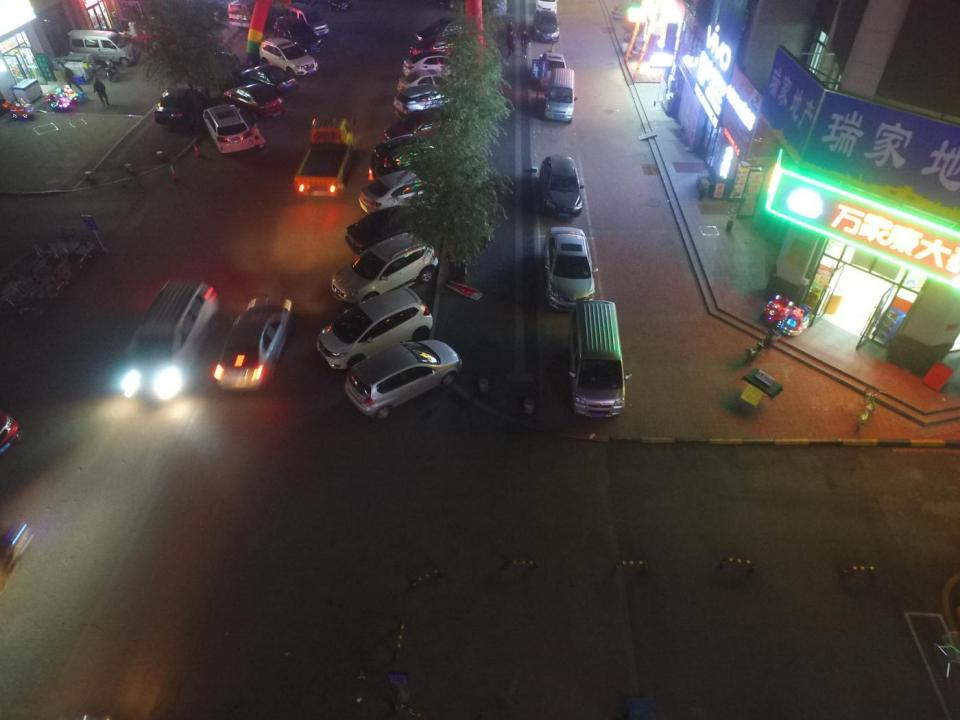car: (316, 286, 433, 369), (345, 340, 462, 420), (331, 233, 438, 305), (214, 298, 292, 390), (346, 205, 446, 256), (543, 227, 598, 311), (359, 170, 444, 215), (539, 156, 585, 219), (383, 108, 454, 144), (224, 84, 284, 121), (397, 69, 469, 96), (154, 87, 206, 124), (544, 68, 578, 124), (237, 63, 298, 94), (403, 51, 475, 77), (186, 51, 239, 85), (410, 36, 472, 63), (415, 18, 477, 42), (541, 53, 569, 89), (534, 9, 560, 42), (535, 0, 559, 14)
truck: (294, 118, 357, 195)
van: (122, 280, 220, 399), (567, 300, 632, 417), (372, 134, 456, 177), (68, 29, 140, 66), (202, 104, 254, 154), (393, 84, 460, 119), (258, 38, 319, 75), (274, 15, 323, 54), (283, 2, 329, 35), (227, 0, 272, 27)
